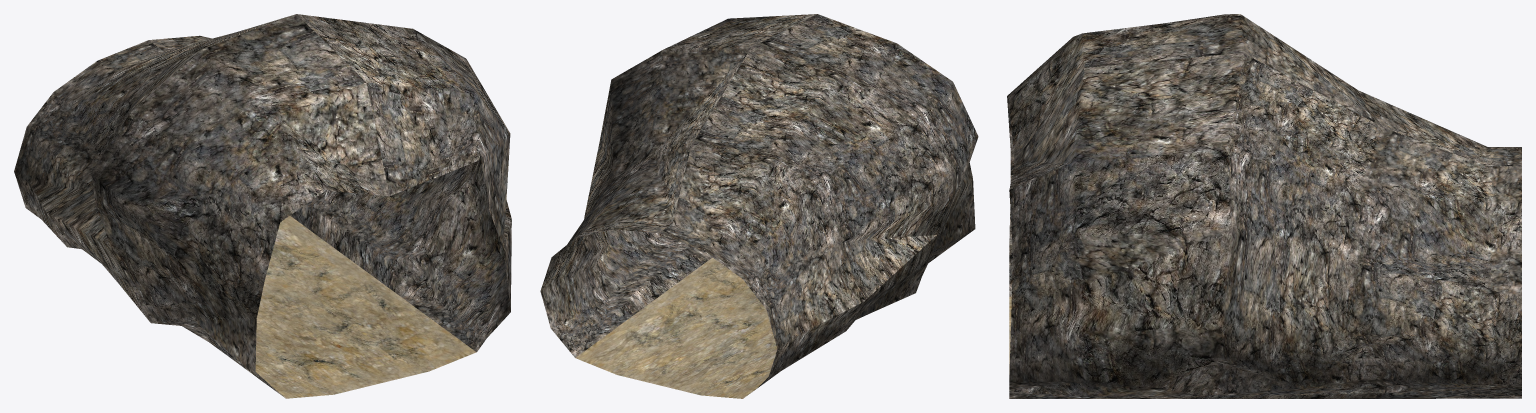
Rendered from pir_m_are_cav_hallNarrow75_entrance.fbx.
3 renders of one model, left to right at view 1: azimuth 30°, elevation 25°; view 2: azimuth 150°, elevation 25°; view 3: azimuth 270°, elevation 25°, orthographic. The views are drawn at different scales.
Visible parts, largest first — view 1: entranceNarrow_wall, entranceNarrow_floor; view 2: entranceNarrow_wall, entranceNarrow_floor; view 3: entranceNarrow_wall.
Part boxes in pixels (x1,y1,x2,y2): entranceNarrow_wall: (14, 14, 511, 398); entranceNarrow_floor: (255, 216, 476, 398); entranceNarrow_wall: (540, 14, 978, 388); entranceNarrow_floor: (575, 257, 777, 398); entranceNarrow_wall: (1007, 14, 1521, 398).
Bounding box in the file's own units: 7420 × 5078 × 7532.
Materials: 2 (2 with a texture image).
